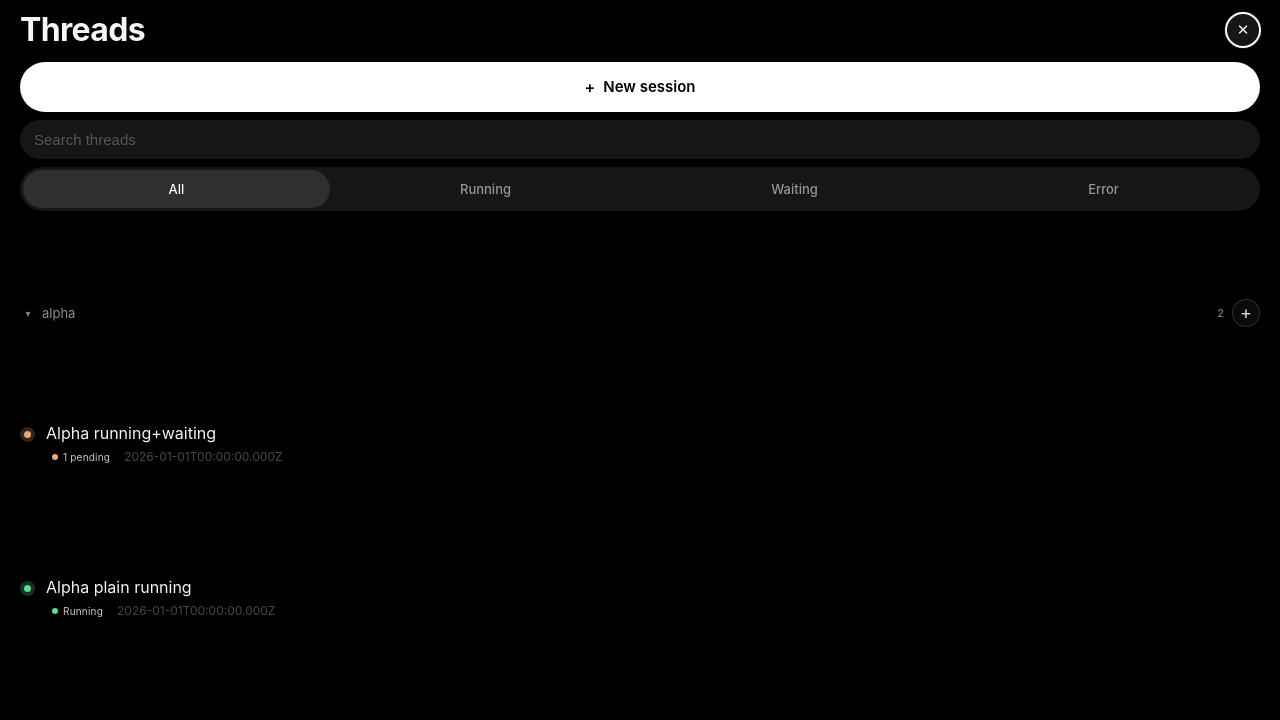
MobileThreadSwitcherOverlay slice 2: drawer + controls › Waiting filter surfaces pending-approval threads even when they're also active
Click the tab with test id "mobile-thread-switcher-filter-waiting": x=794, y=189 [641,170,948,208]
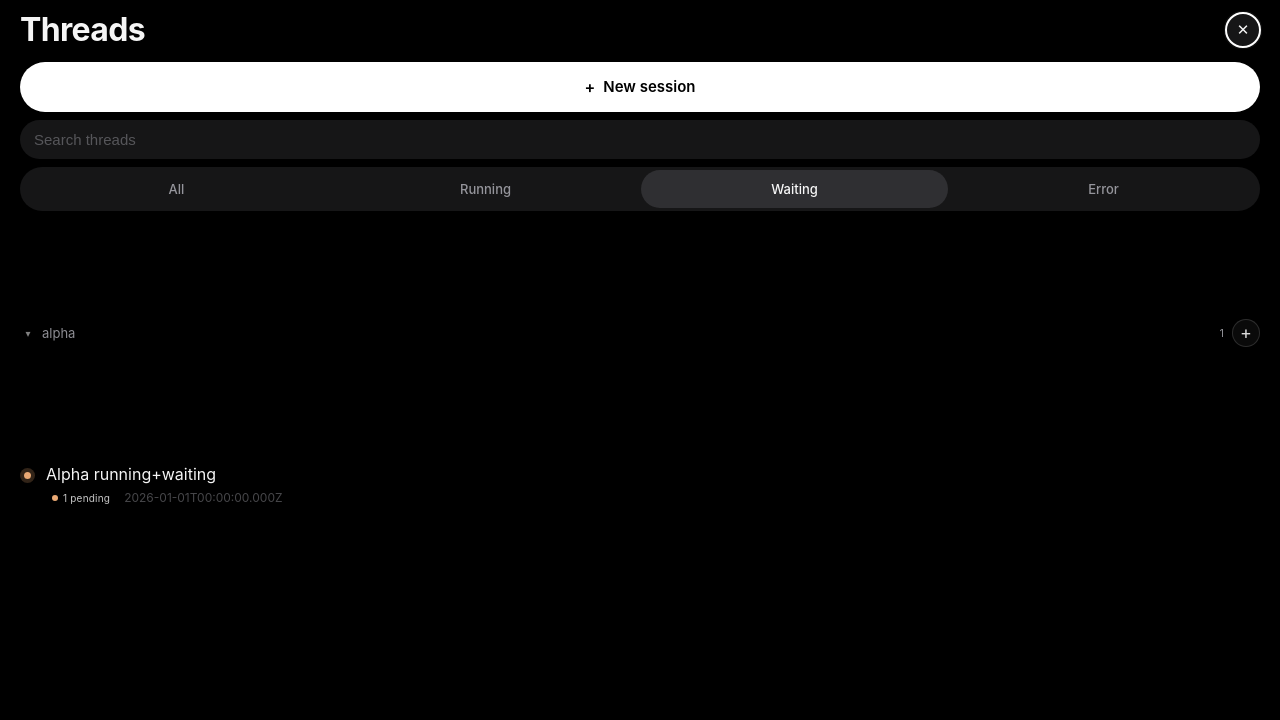
Expected: the text "Alpha running+waiting" is shown, [46,464,216,484]
Expected: the button "Alpha plain running" is gone
